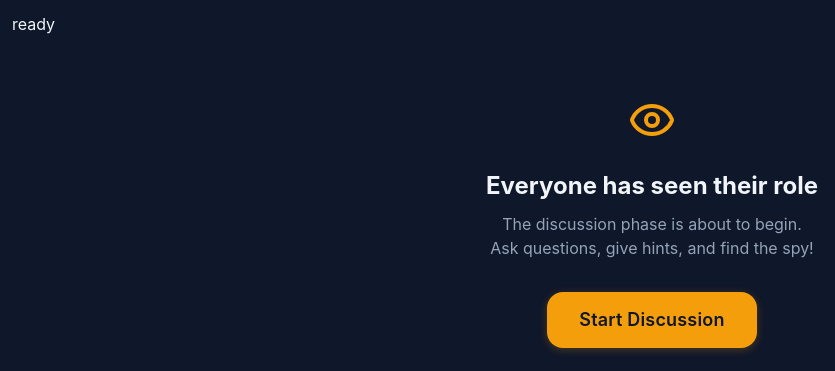
Test: choosing the starting player › picks a player on the existing Start Discussion action
This screenshot has width=835, height=371.
Expected: the text with test id "phase" reads "ready", [12,14,55,34]
Step 1. Click the button "Start Discussion" → (652, 320), box [547,292,757,348]
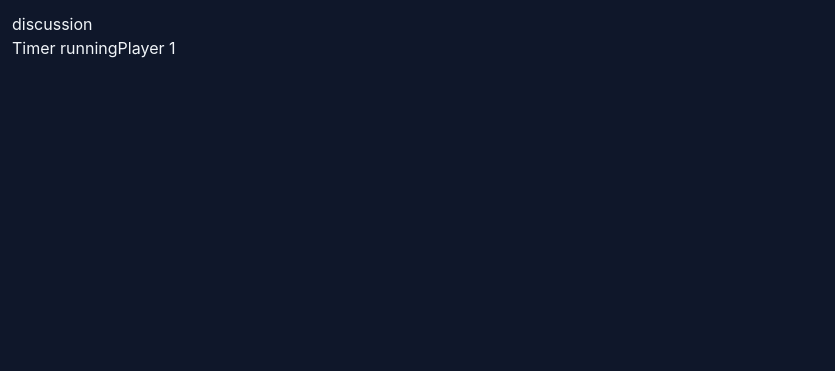
Expected: the text with test id "phase" reads "discussion", [12,14,92,34]
Expected: the text "Timer running" is shown, [12,38,118,58]
Expected: the text with test id "starter" reads "Player 1", [118,38,176,58]
